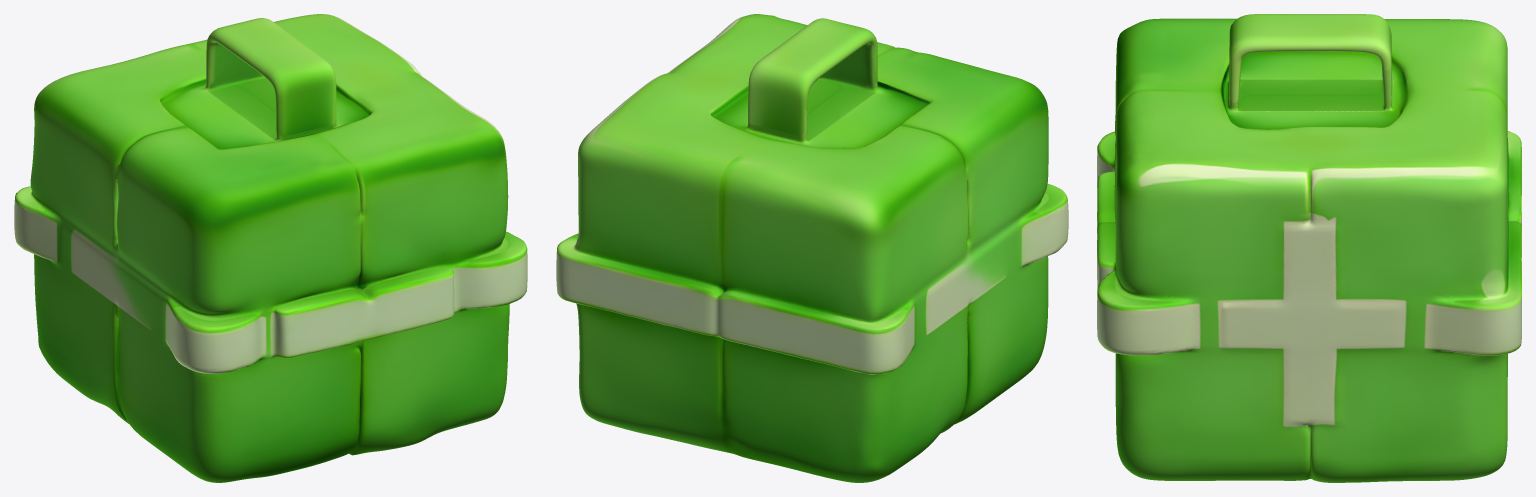
Rendered from powerup-health.glb.
3 renders of one model, left to right at view 1: azimuth 30°, elevation 25°; view 2: azimuth 150°, elevation 25°; view 3: azimuth 270°, elevation 25°, orthographic. The views are drawn at different scales.
Visible parts, largest first — view 1: model; view 2: model; view 3: model.
Boxes of the visible parts, x1,y1,x2,y2 form: model: [14, 14, 527, 482]; model: [556, 14, 1068, 482]; model: [1097, 14, 1521, 482].
Size of the model in its own units: 1.9 by 1.89 by 1.89.
Materials: 1 (1 with a texture image).
